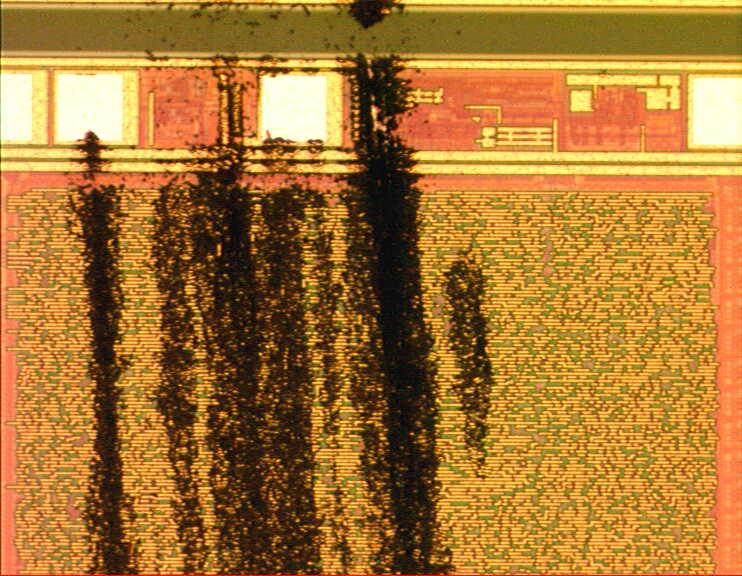SCRATCH: (66, 1, 502, 576)
